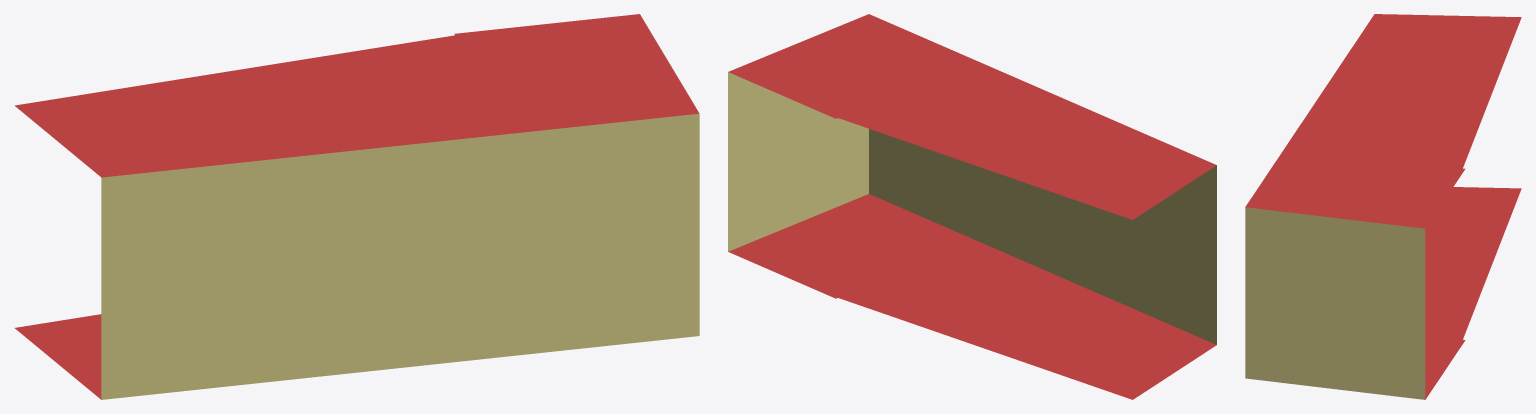
The picture shows the model from 3 angles, left to right: view 1: azimuth 30°, elevation 25°; view 2: azimuth 150°, elevation 25°; view 3: azimuth 270°, elevation 25°; orthographic projection. The views are drawn at different scales.
Size of the model in its own units: 15.9 by 8.66 by 5.91.
